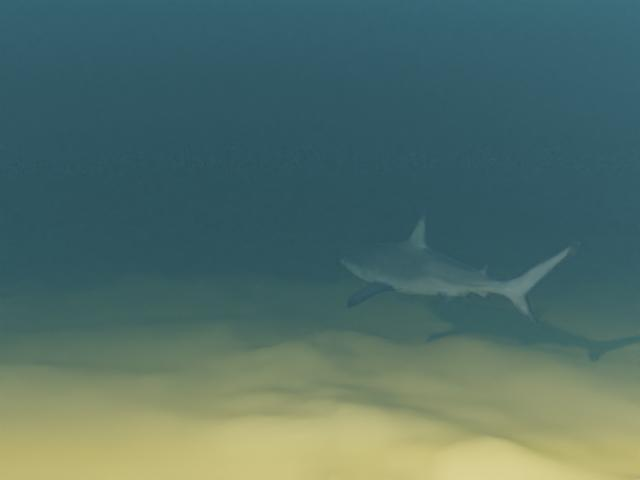Carribean Shark.001: (340, 214, 581, 326)
